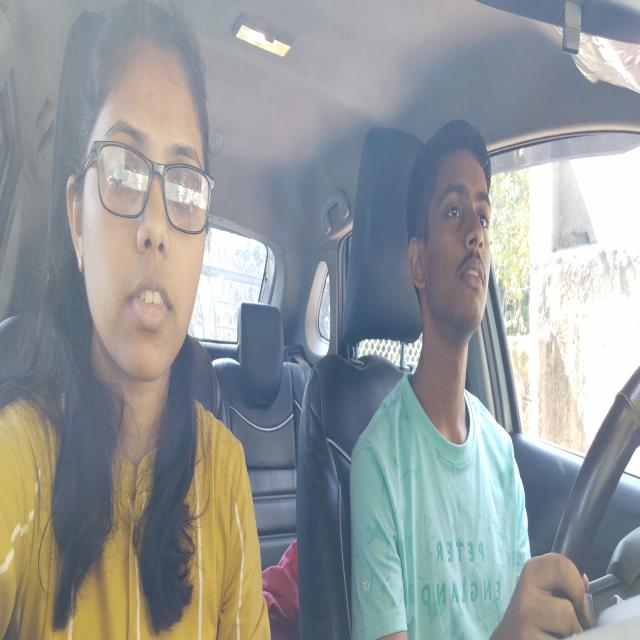person: (69, 19, 214, 382), (408, 140, 497, 342)
